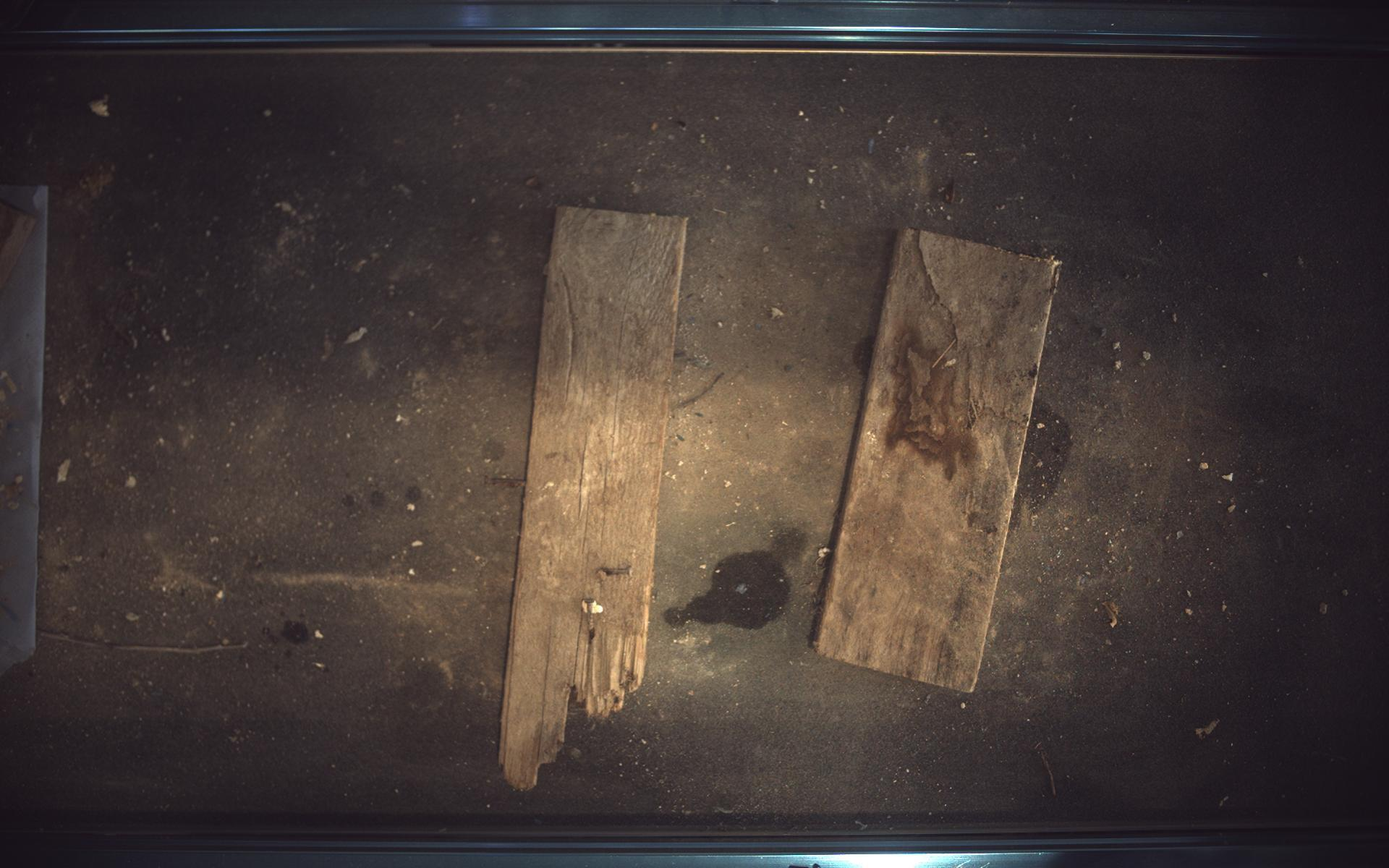wood: (817, 228, 1062, 693), (500, 205, 687, 791)
